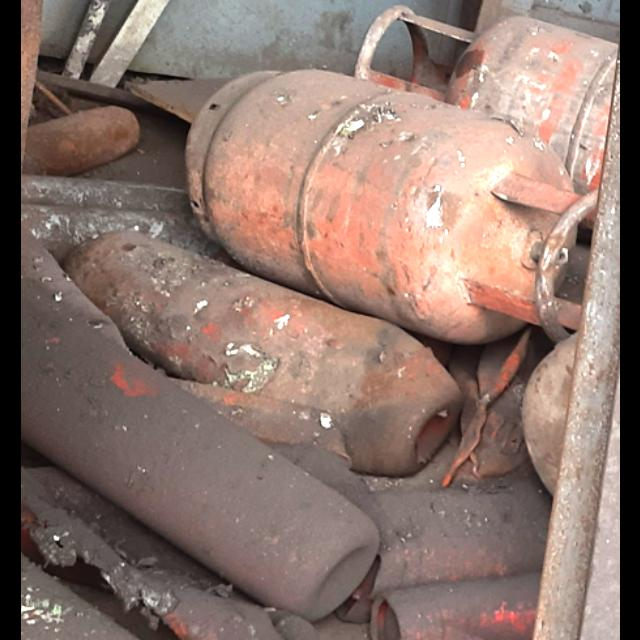Cylinders: (184, 59, 605, 342), (354, 0, 617, 169)
